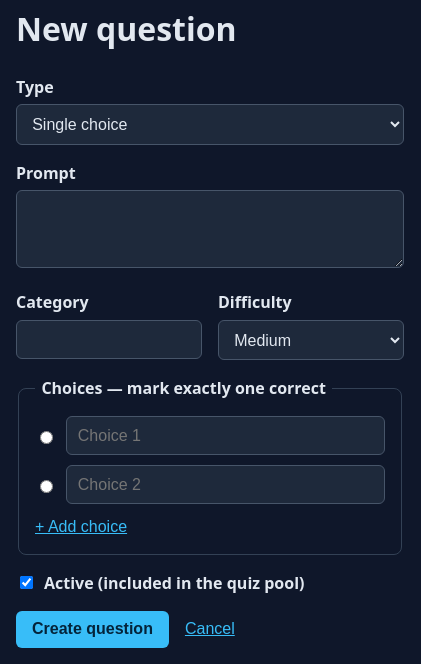
Scenario: QuestionEditor › blocks submit and shows validation errors when invalid
Click the button "Create question".
click(92, 629)  # box left=16, top=611, right=169, bottom=648
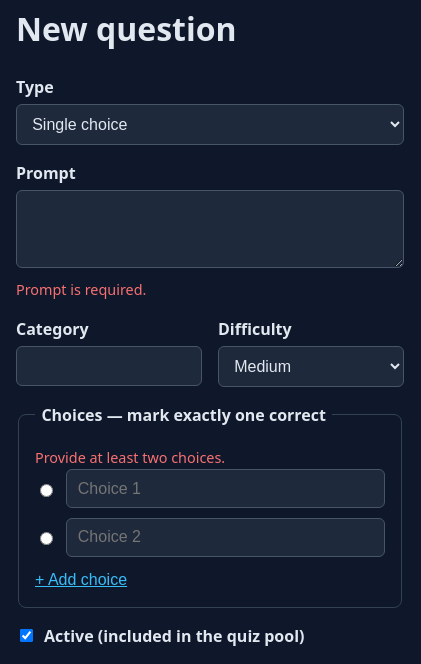
Now the text "Prompt is required." is shown, box left=16, top=280, right=146, bottom=299
Now the text "Provide at least two choices." is shown, box left=35, top=448, right=225, bottom=467
